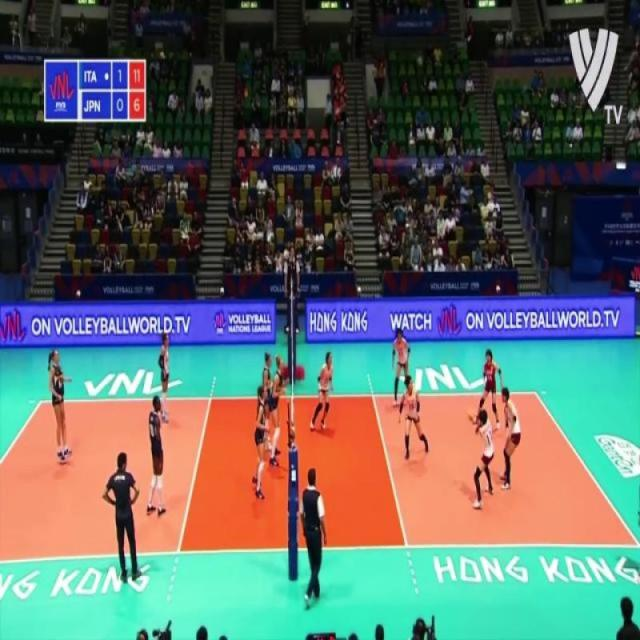volleyball: (467, 402, 476, 423)
